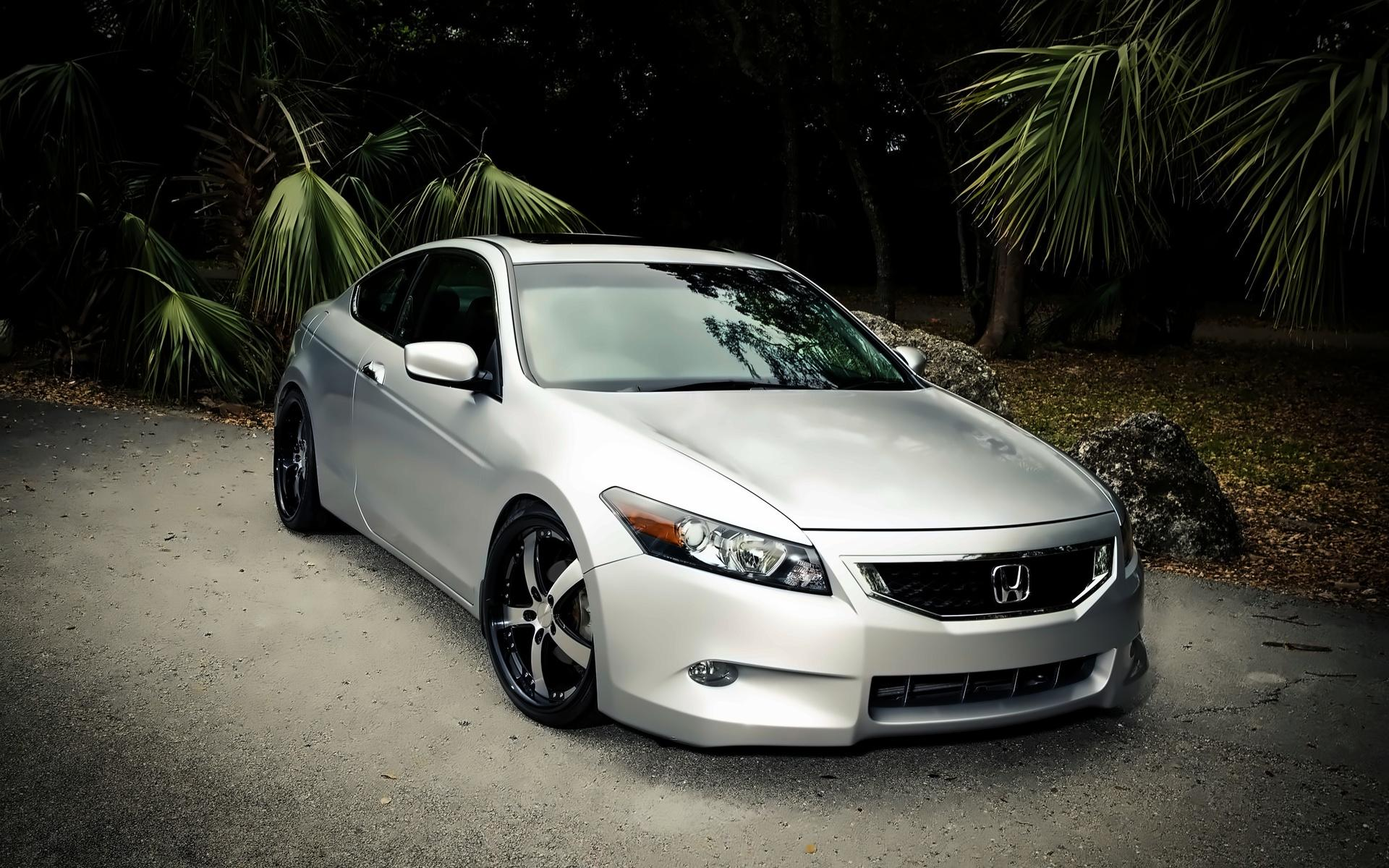Car hood: (549, 386, 1121, 542)
Driver-s door - -F-R-: (347, 240, 519, 620)
Fender - -F-R-: (491, 460, 590, 584)
Fender - -R-R-: (275, 352, 330, 427)
Front bumper: (585, 548, 1160, 758)
Headlight - -R-: (598, 483, 832, 599)
Side bumper - -R-: (310, 444, 489, 660)
Side mirror - -L-: (887, 340, 934, 377)
Side mirror - -R-: (404, 337, 490, 395)
